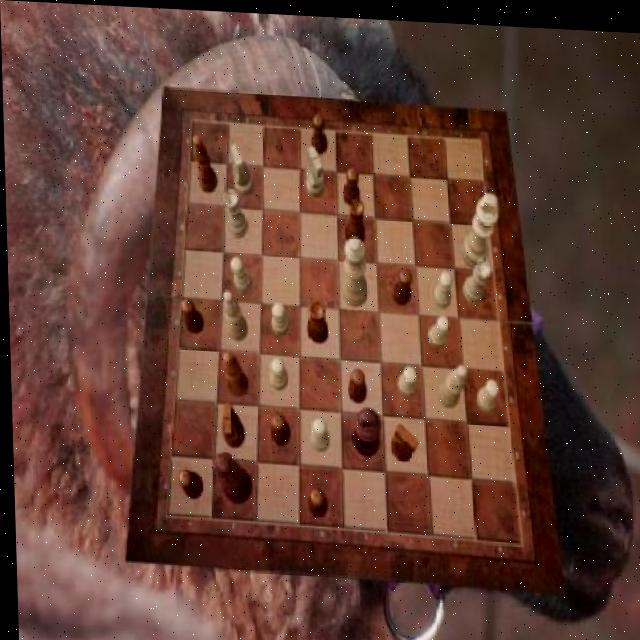bishop: (192, 134, 217, 193), (219, 348, 246, 395)
black-bishop: (349, 405, 379, 453)
black-king: (388, 420, 417, 459), (219, 399, 243, 446)
black-knight: (179, 297, 203, 333), (174, 467, 199, 499), (389, 265, 410, 302), (311, 109, 328, 151), (269, 409, 289, 444), (345, 364, 364, 400), (341, 164, 358, 204), (303, 482, 324, 514)
black-pawn: (210, 449, 250, 503)
black-queen: (343, 196, 364, 244), (304, 297, 326, 340)
black-rook: (435, 359, 466, 402), (221, 289, 245, 341)
white-bishop: (459, 188, 498, 266)
white-king: (230, 141, 254, 195), (304, 143, 324, 196)
white-knight: (473, 373, 497, 408), (426, 311, 449, 346), (430, 267, 451, 305), (229, 254, 251, 290), (306, 415, 327, 450), (394, 362, 415, 394), (267, 354, 286, 388), (269, 300, 287, 334)
white-pawn: (339, 234, 367, 306)
white-queen: (459, 252, 490, 300), (221, 186, 245, 236)
